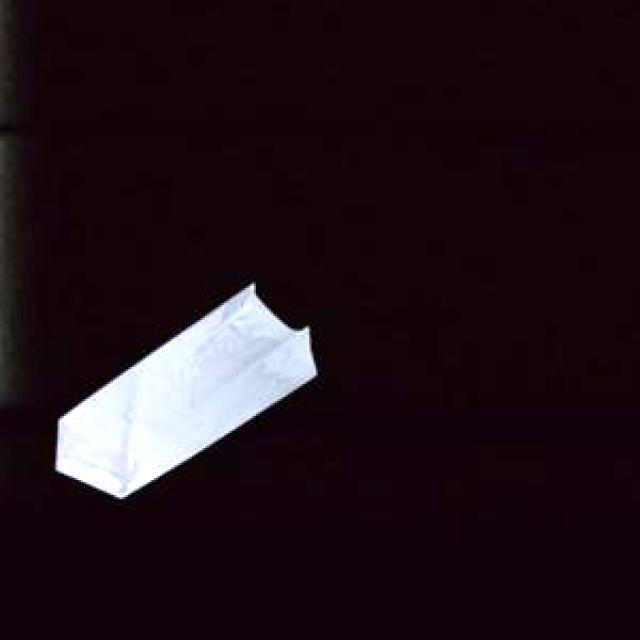Plastic_Bag: (52, 280, 313, 494)
